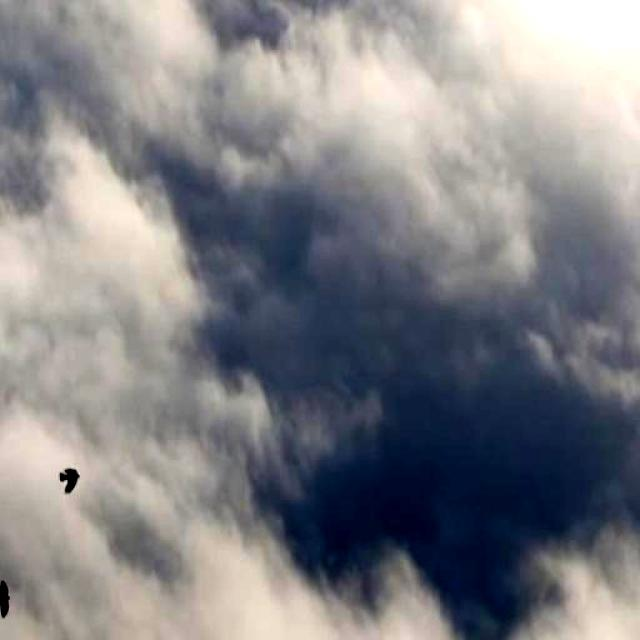airplane: (50, 449, 88, 508), (0, 564, 16, 634)
